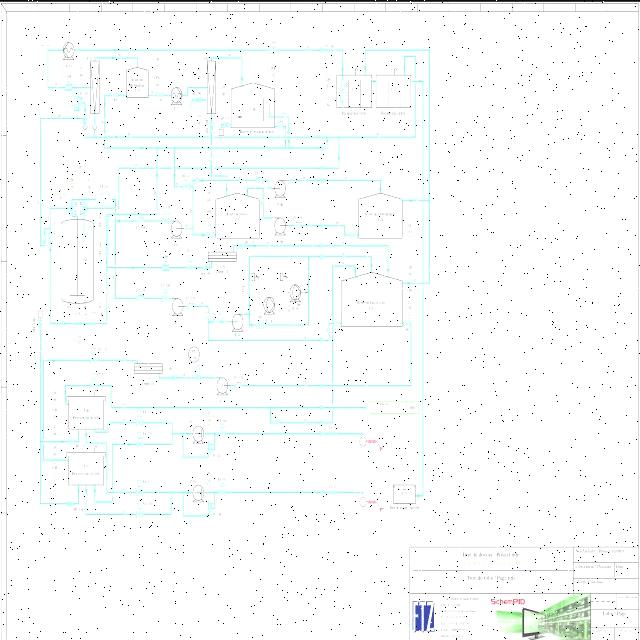4 Way Ball Valve: (67, 199, 75, 214), (81, 201, 88, 213)
Ball Valve: (191, 90, 202, 103), (102, 209, 110, 225), (66, 432, 76, 444), (168, 370, 178, 382), (235, 241, 249, 249), (222, 118, 232, 128), (210, 119, 216, 133), (104, 240, 110, 254), (66, 497, 74, 505), (202, 262, 210, 270)
Centrifugal Pump: (213, 368, 229, 398), (230, 304, 246, 332), (171, 291, 185, 323), (274, 172, 288, 200), (170, 213, 184, 239), (275, 208, 287, 234)
Check Valve: (210, 312, 222, 326), (290, 217, 303, 229), (337, 86, 345, 104), (233, 376, 246, 387), (187, 298, 196, 312), (136, 214, 146, 222), (137, 290, 144, 300)
Gate Valve: (108, 86, 118, 98), (349, 228, 359, 240), (276, 120, 286, 131), (332, 314, 341, 326), (246, 277, 252, 294), (206, 228, 215, 236), (156, 89, 164, 97)
Hand Operated Gate Valve: (63, 76, 73, 92), (182, 177, 192, 190), (162, 257, 170, 271)
Needle Valve: (48, 227, 54, 245)
PSV: (76, 89, 83, 108), (205, 495, 212, 514), (206, 436, 212, 454)
Pneumatic-Diaphragm Gate Valve: (160, 206, 170, 222), (218, 478, 226, 496), (162, 286, 170, 300), (218, 421, 225, 435)
Powered Gate Valve: (134, 475, 144, 495), (187, 250, 196, 272), (90, 342, 98, 365), (136, 498, 144, 520), (136, 426, 144, 448), (136, 408, 144, 426), (90, 367, 97, 387), (275, 409, 281, 427)
Pressure Regulator: (192, 360, 202, 382)
